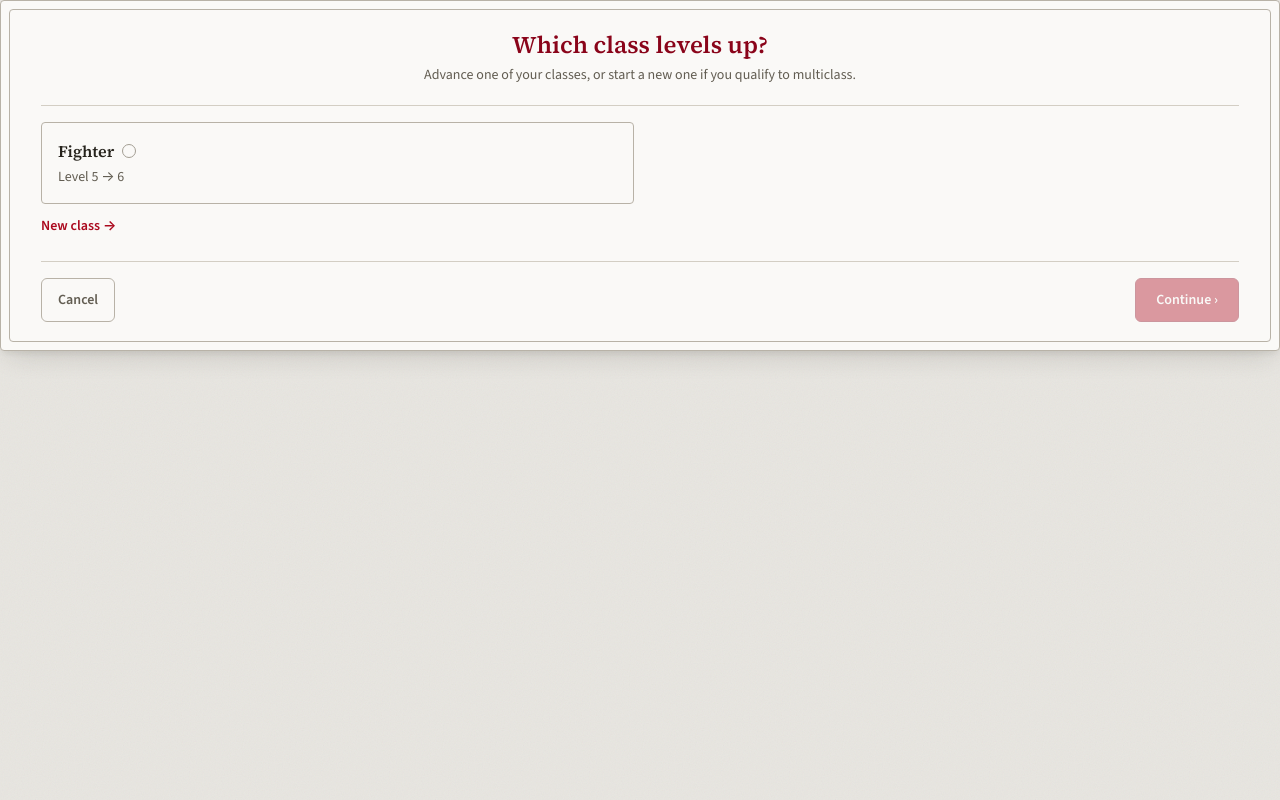
Scenario: ClassChoiceStep › the back control returns from the drill-in to the top view
What coordinates should you click on to do the following:
click the button "New class →"
I would click on:
 (79, 226)
Its box is top-left (41, 216), bottom-right (116, 236).
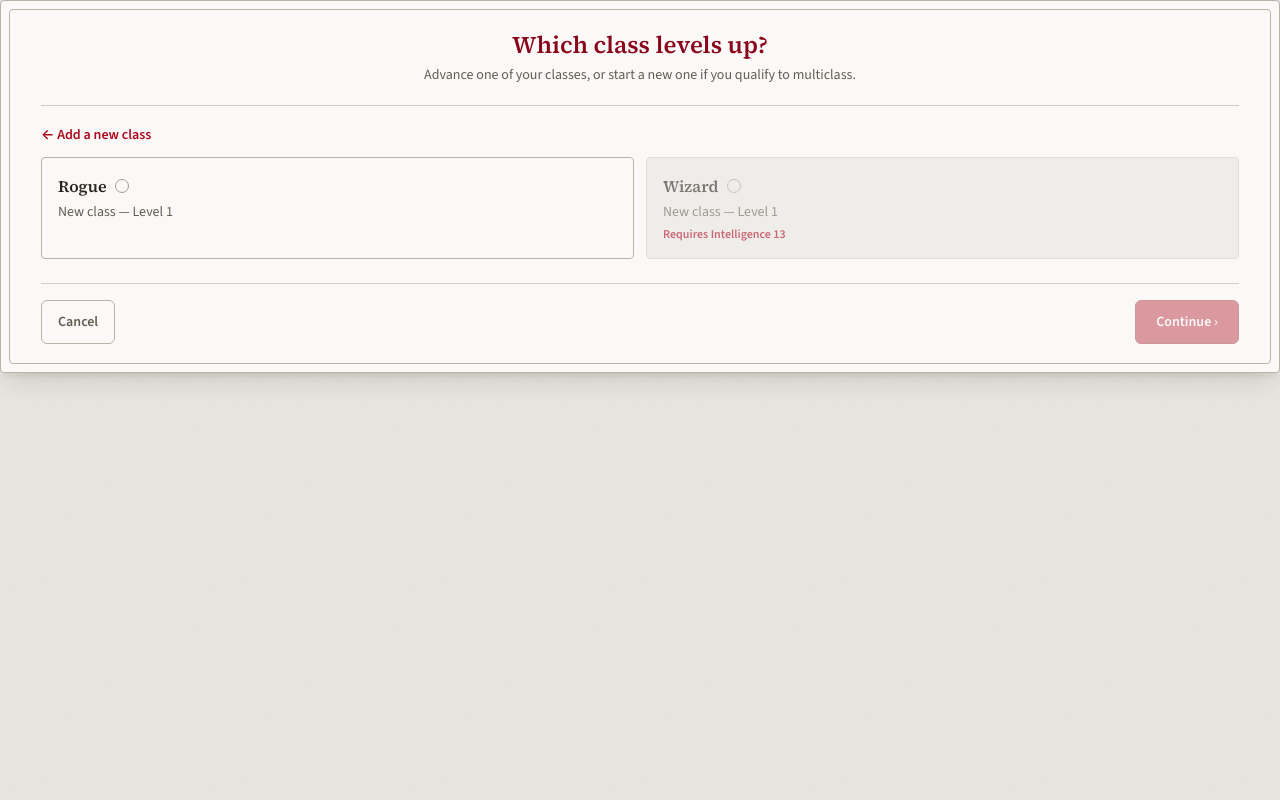
Check: the radio button labelled "Rogue" is shown, box top-left (41, 157), bottom-right (634, 259)
What coordinates should you click on to do the following:
click the button with aria-label "back to class selection"
I would click on:
 (96, 135)
Its box is top-left (41, 125), bottom-right (151, 145).
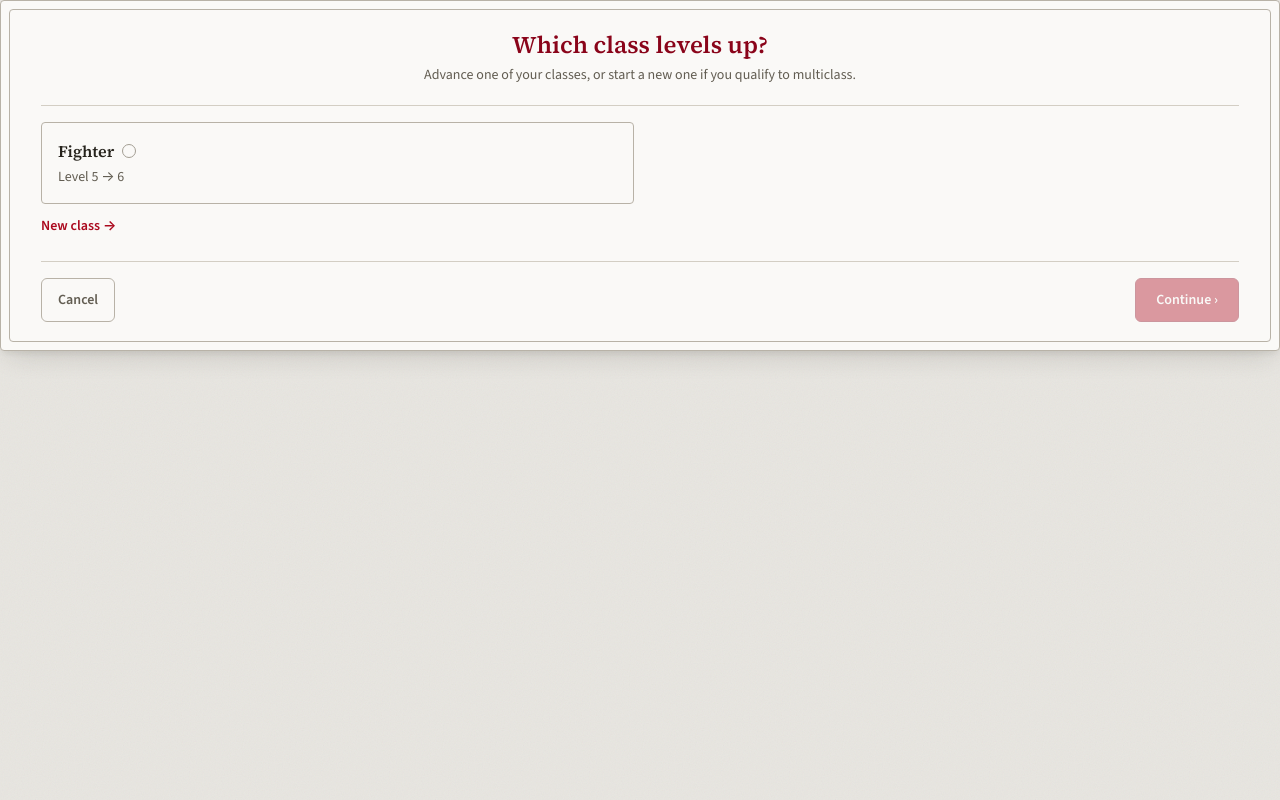
Check: the radio button labelled "Fighter" is shown, box top-left (41, 122), bottom-right (634, 204)
Check: the radio button labelled "Rogue" is gone
